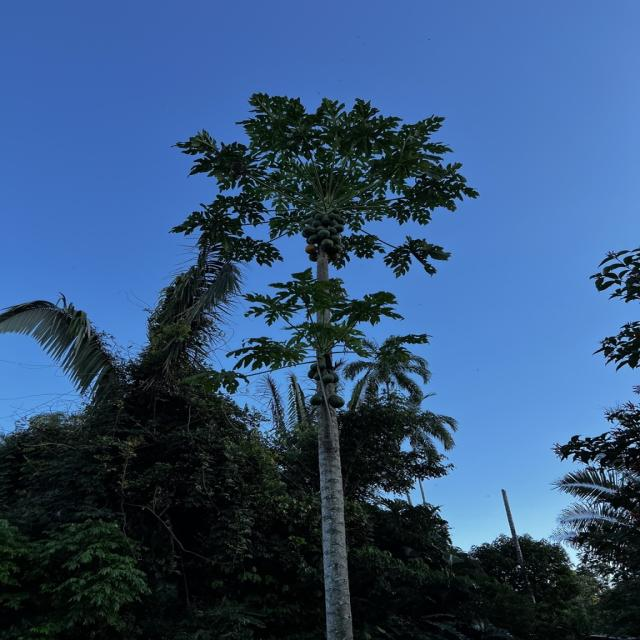Papaya-Tree: (180, 77, 486, 640)
